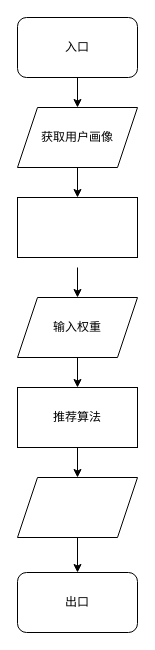
The diagram is 155 pixels wide and 650 high, and some of its shapes have lost their labels. The centre of each missing label's shape, as x and y in pixels:
"弱点分析、提升空间分析" belongs at [77,227].
"推荐题目" belongs at [77,507].
